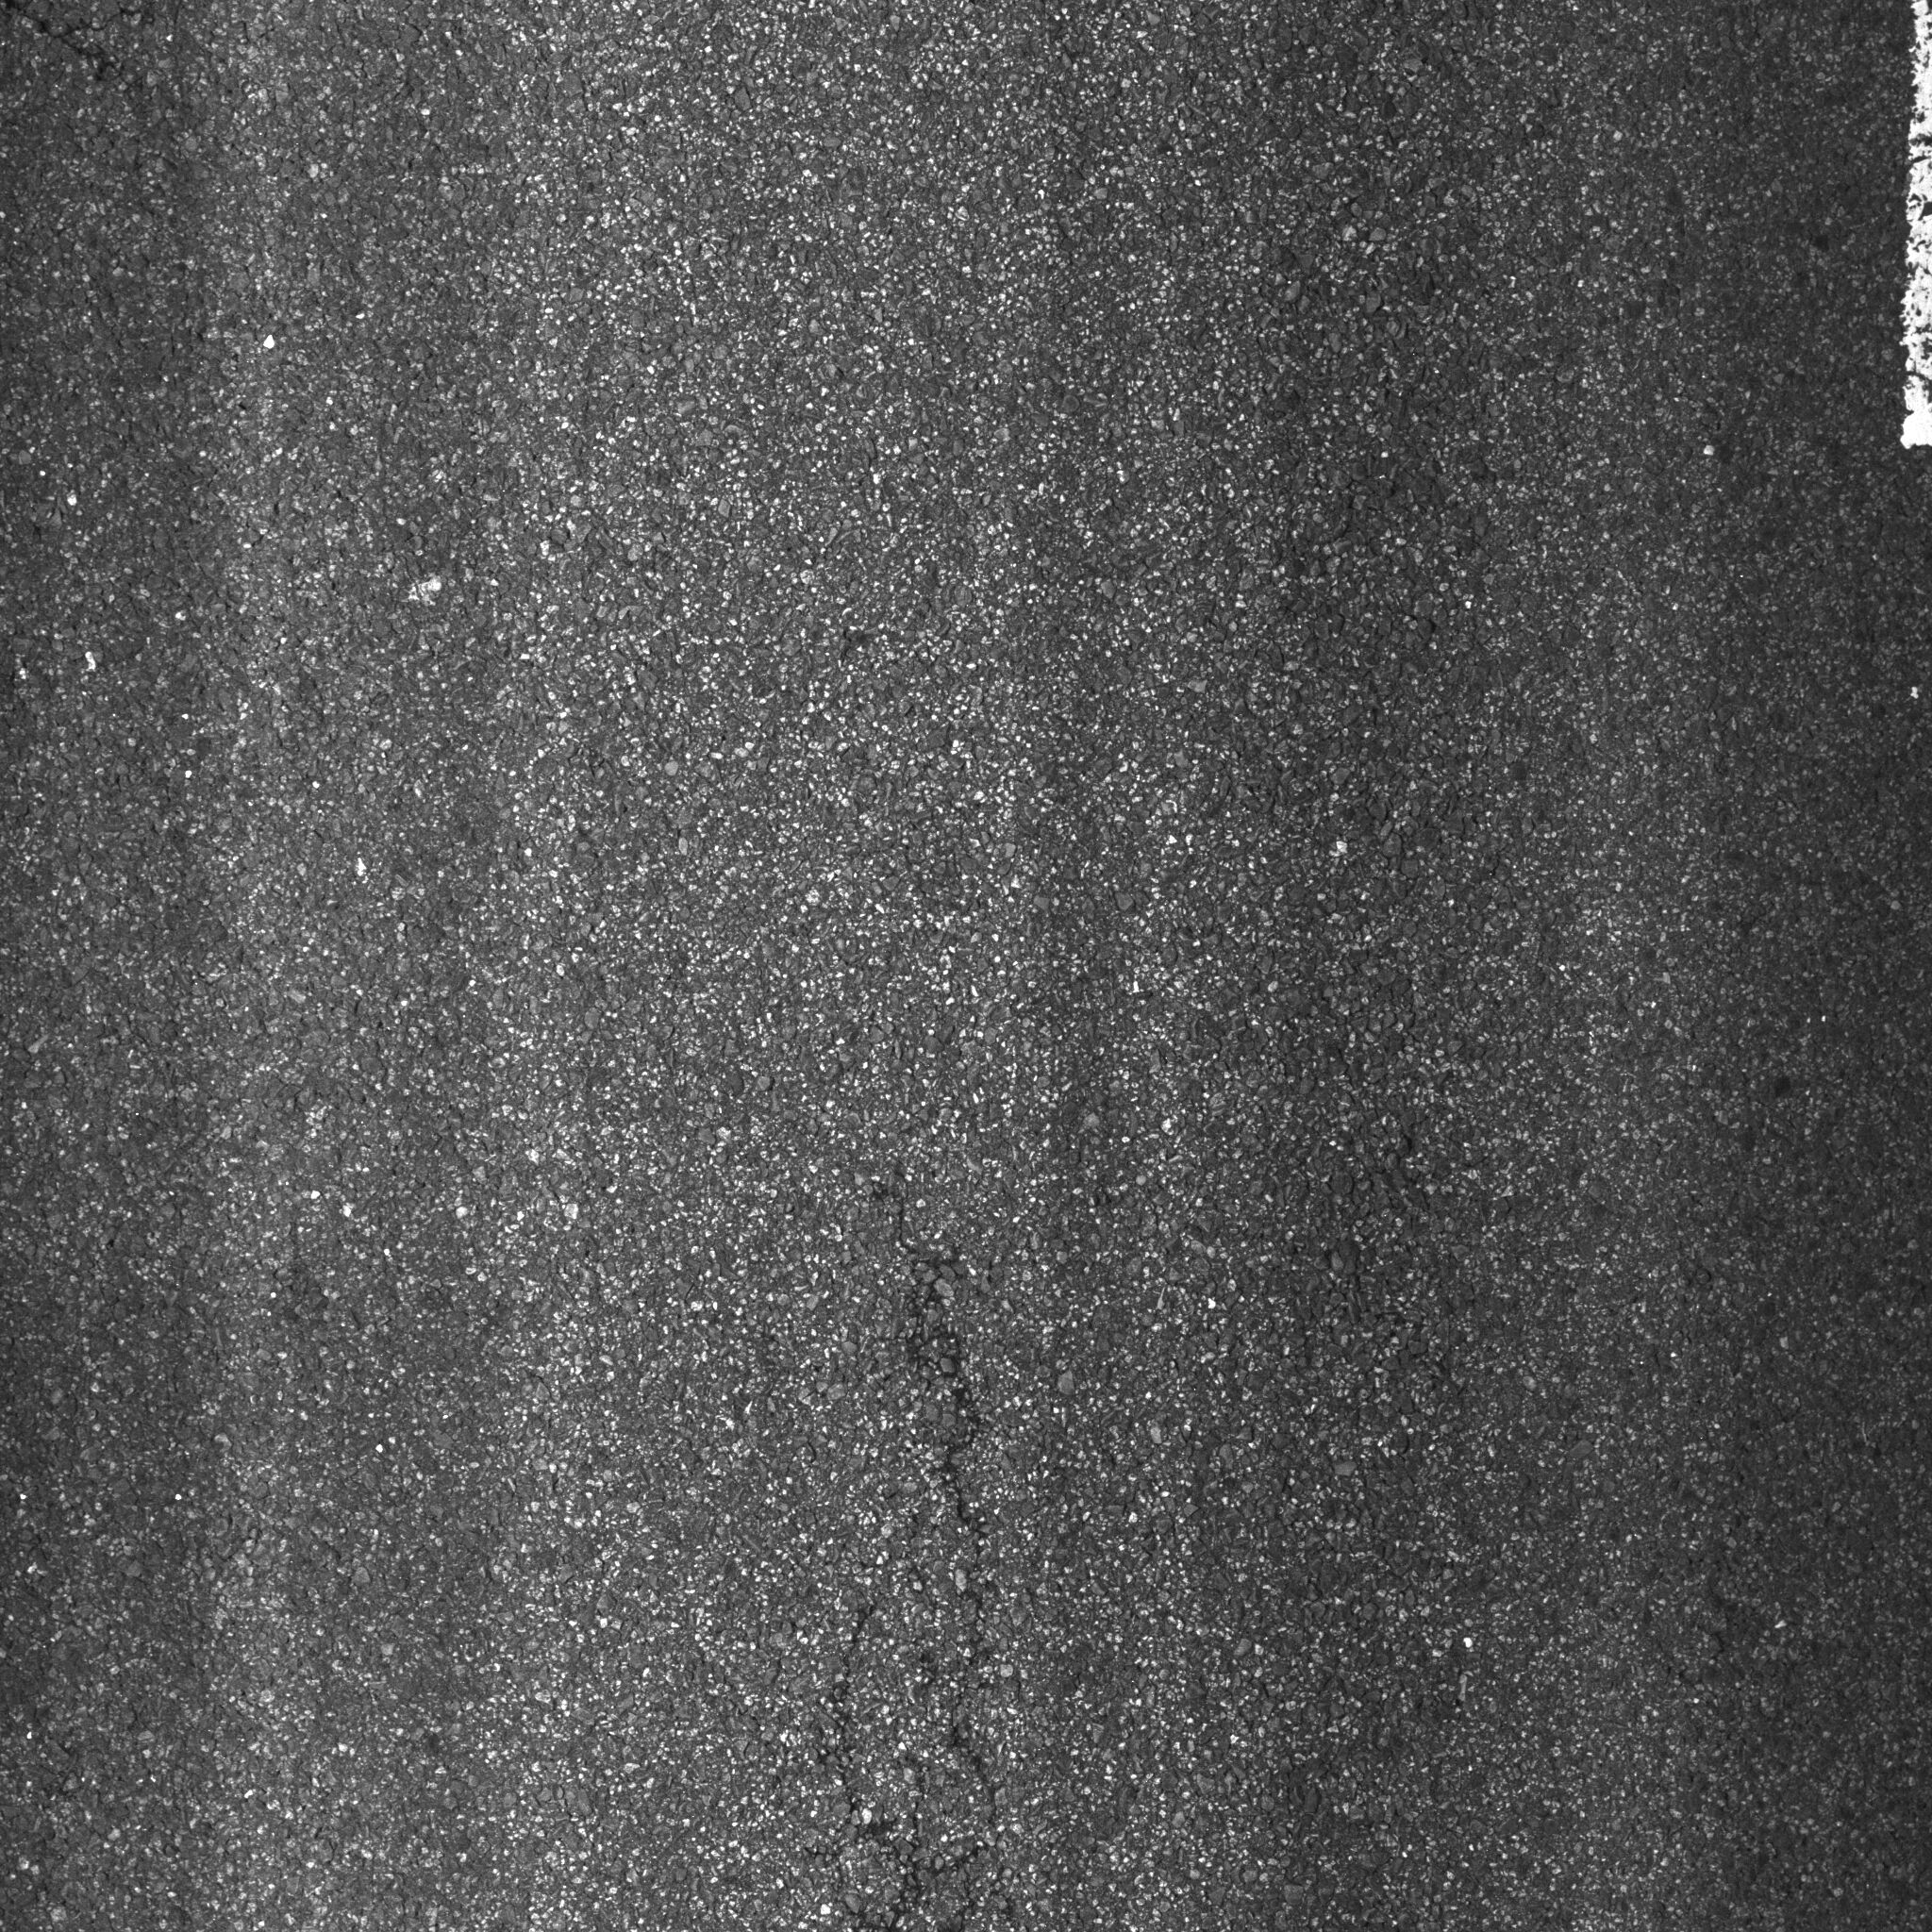longitudinal: (849, 1177, 1042, 1914)
